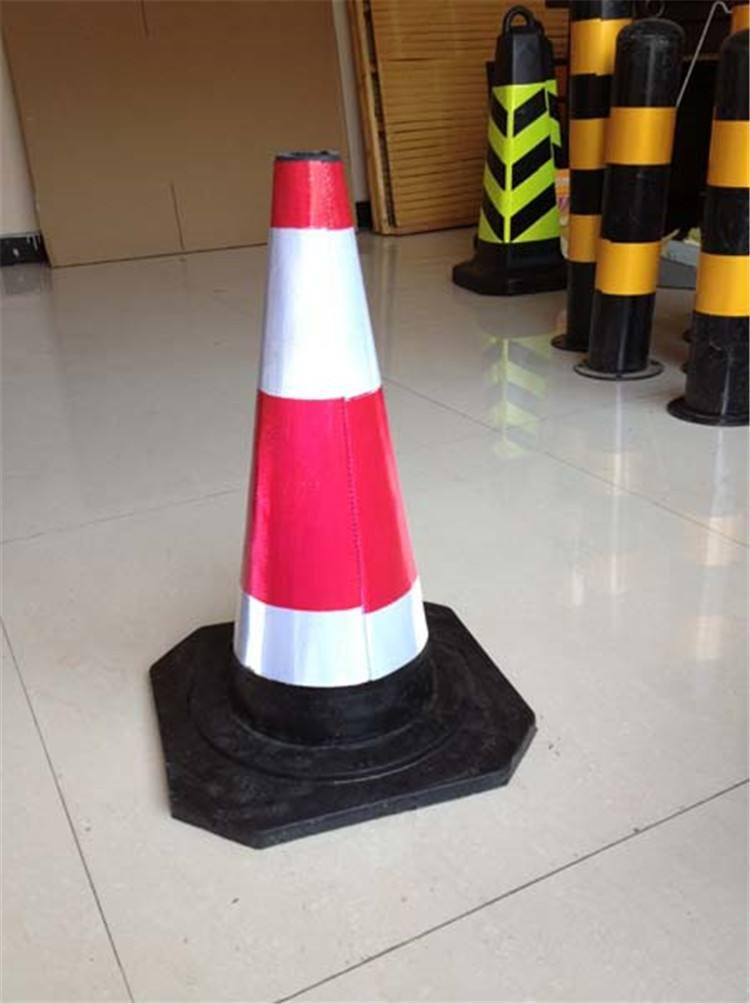sign: (163, 132, 432, 852), (464, 10, 571, 299)
